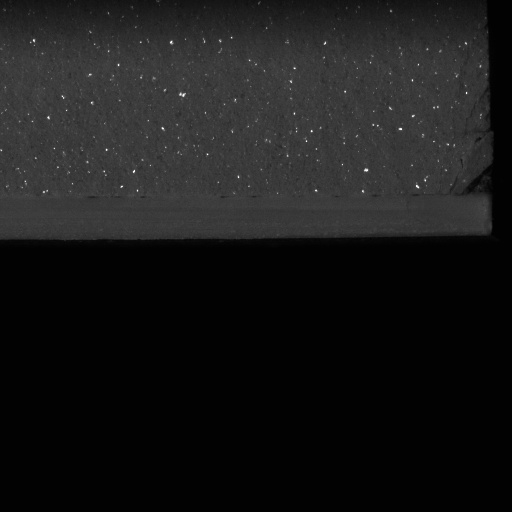bengque: (453, 159, 495, 197)
